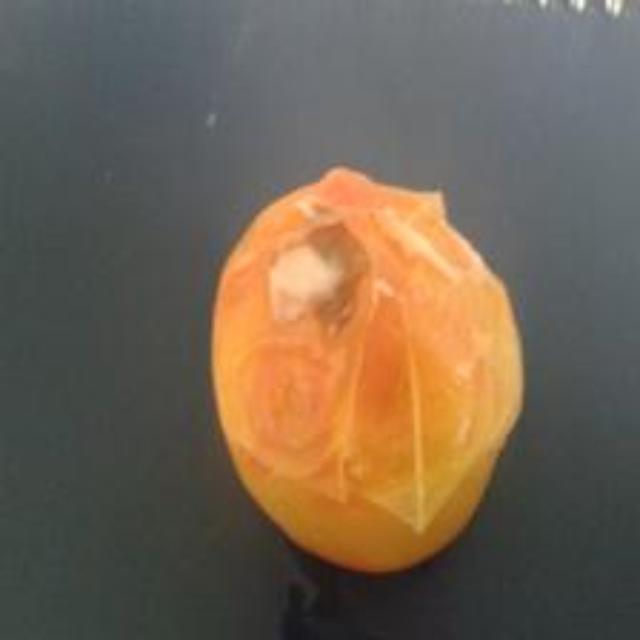defect: (207, 162, 529, 580)
